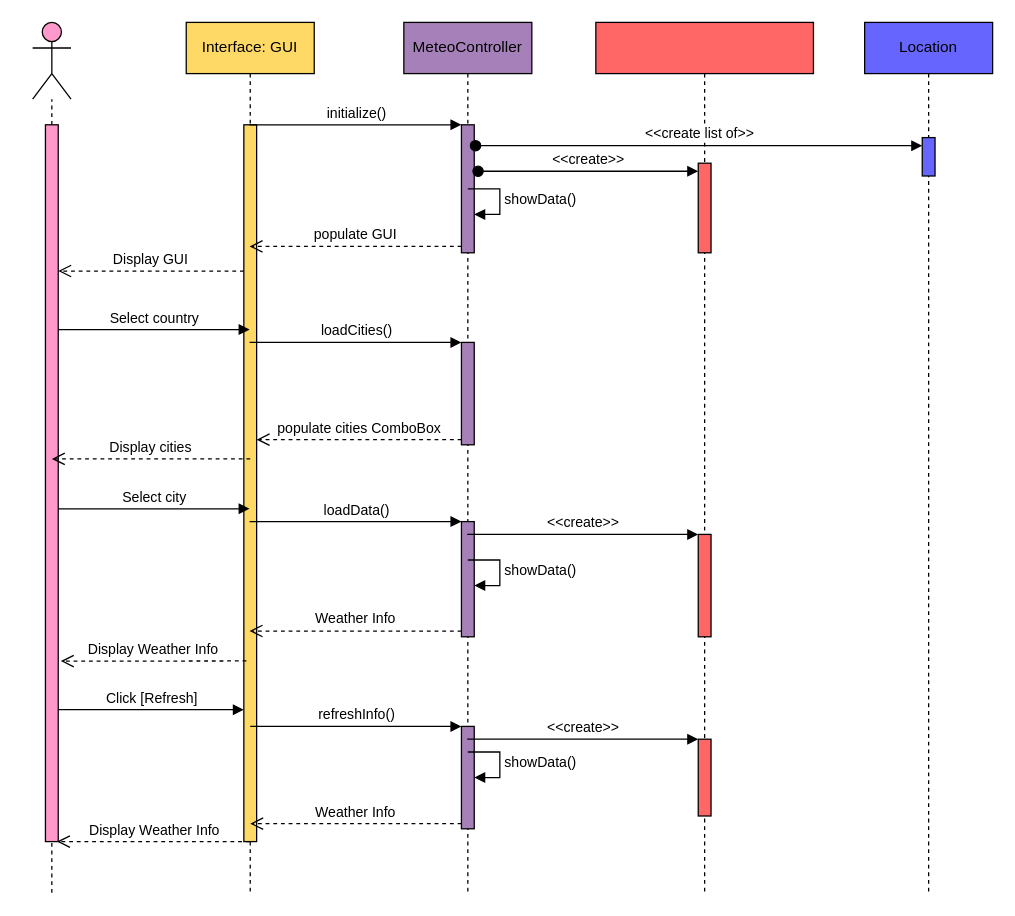
The diagram is 1015 pixels wide and 916 high, and some of its shapes have lost their labels. The box of each missing label's shape, as (x1, y1, x2, y2) in pixels:
meteoData: MeteoModel: (595, 21, 813, 893)
Utilizator: (31, 21, 71, 99)
